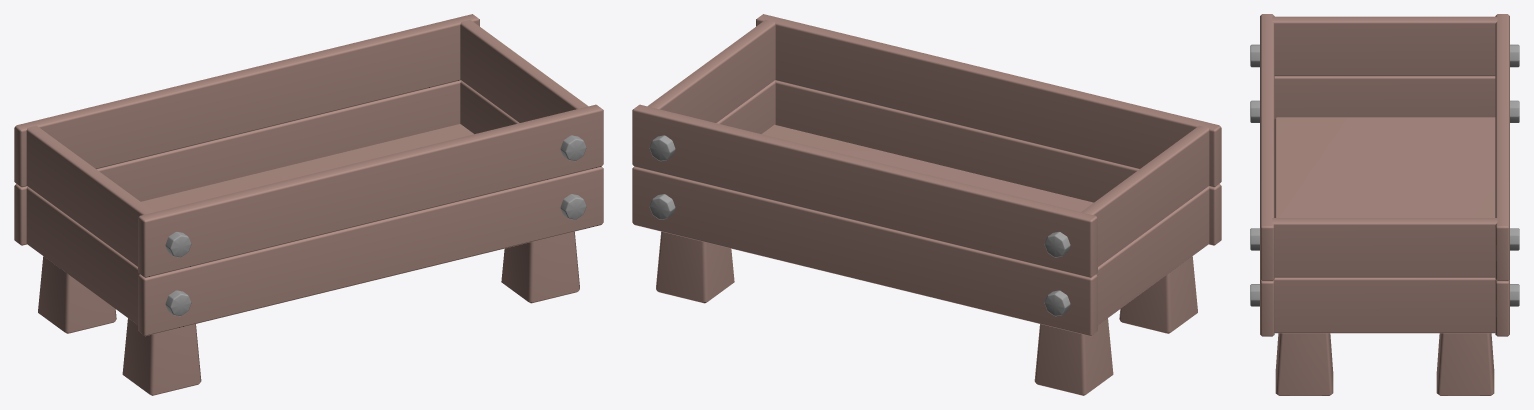
Rendered from Farm_5_Box_1.glb.
3 renders of one model, left to right at view 1: azimuth 30°, elevation 25°; view 2: azimuth 150°, elevation 25°; view 3: azimuth 270°, elevation 25°, orthographic. The views are drawn at different scales.
Parts seen in each view (by area): view 1: Farm_5_Box_1; view 2: Farm_5_Box_1; view 3: Farm_5_Box_1.
Boxes of the visible parts, left/top/right/bottom form: Farm_5_Box_1: left=14, top=14, right=603, bottom=395; Farm_5_Box_1: left=632, top=14, right=1221, bottom=395; Farm_5_Box_1: left=1250, top=14, right=1519, bottom=395.
Size of the model in its own units: 1.85 by 0.7179 by 0.9879.
Materials: 1 (1 with a texture image).
